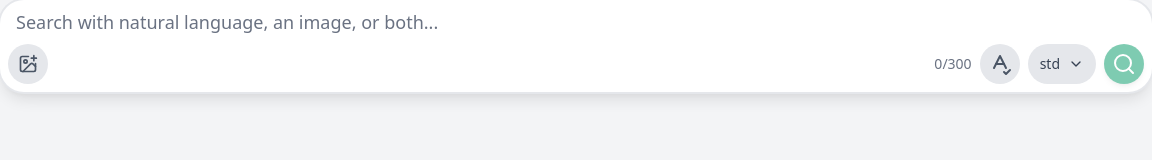
Test: SearchBar component › toggles correction enabled state
The width and height of the screenshot is (1152, 160).
Click the button named "spell correction, on": (1000, 64) [980,44,1020,84]
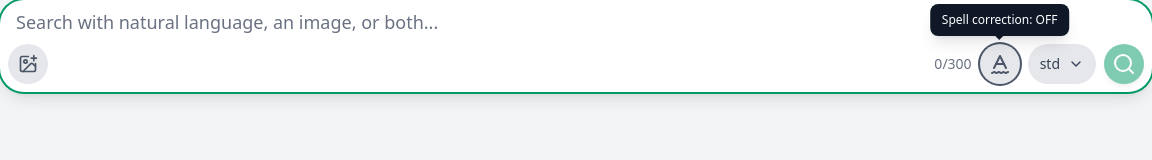
Expected: the button named "spell correction, off" is shown, [980,44,1020,84]
